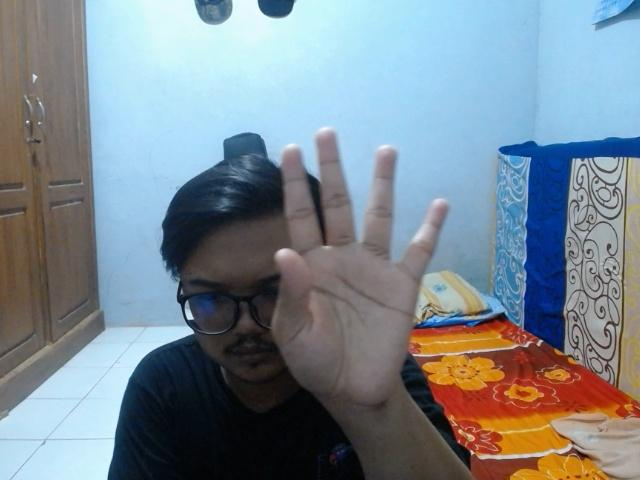Release: (270, 122, 451, 412)
